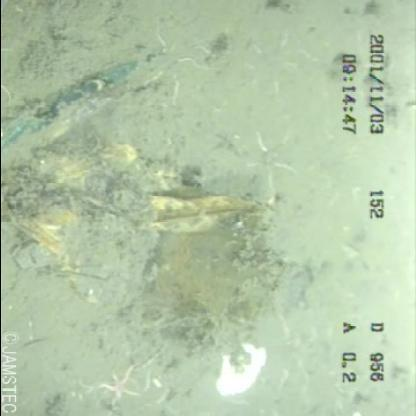Bio: (80, 358, 146, 408)
Rác: (2, 49, 270, 298)
